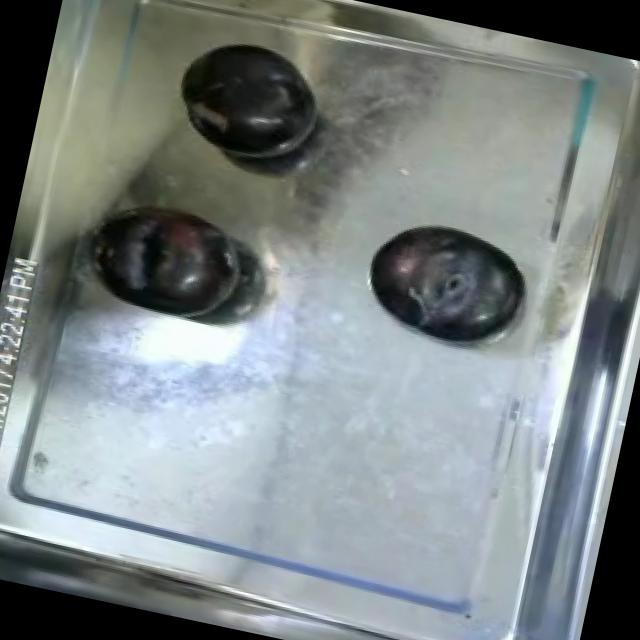Fruit: (347, 207, 535, 361), (76, 186, 256, 336), (166, 22, 332, 170)
